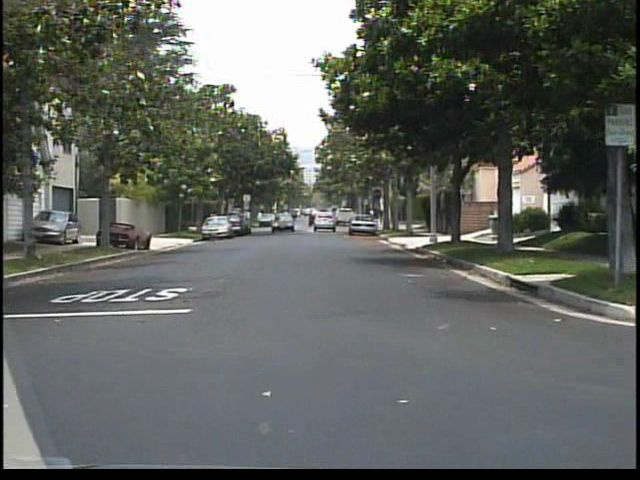person: (209, 207, 222, 233)
